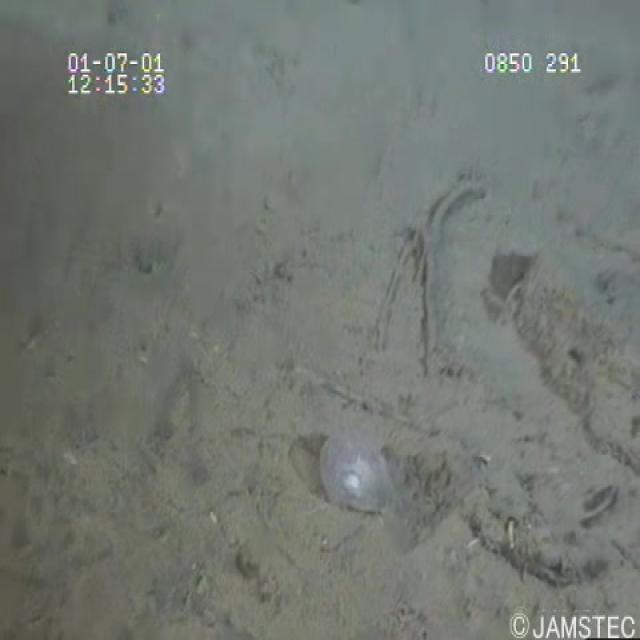plastic: (298, 407, 406, 533)
